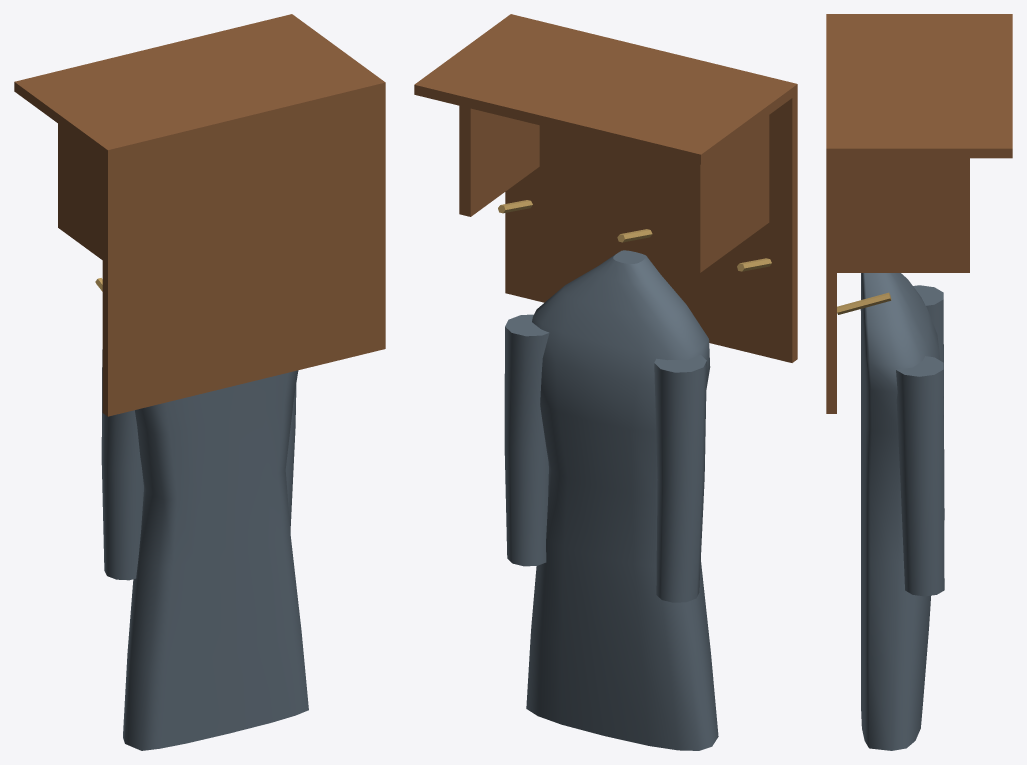
The model's file is parametric-wall-coat-rack-2nd-0600x0350x1900.glb.
3 renders of one model, left to right at view 1: azimuth 30°, elevation 25°; view 2: azimuth 150°, elevation 25°; view 3: azimuth 270°, elevation 25°, orthographic. The views are drawn at different scales.
Parts seen in each view (by area): view 1: backboard, coat:0, hat-shelf, coat-sleeve:0:-1, bracket:-1, coat-sleeve:0:1; view 2: coat:0, backboard, hat-shelf, coat-sleeve:0:-1, coat-sleeve:0:1, bracket:-1, bracket:1; view 3: hat-shelf, coat:0, bracket:1, coat-sleeve:0:1, backboard, coat-sleeve:0:-1, hook:2.
Part boxes in pixels (bbox=[...]): backboard: bbox=[102, 92, 385, 416]; coat:0: bbox=[123, 370, 308, 750]; hat-shelf: bbox=[14, 14, 385, 159]; coat-sleeve:0:-1: bbox=[101, 349, 143, 580]; bracket:-1: bbox=[58, 123, 102, 259]; coat-sleeve:0:1: bbox=[285, 385, 296, 531]; coat:0: bbox=[526, 250, 718, 750]; backboard: bbox=[505, 94, 797, 362]; hat-shelf: bbox=[414, 14, 797, 164]; coat-sleeve:0:-1: bbox=[654, 355, 706, 602]; coat-sleeve:0:1: bbox=[504, 314, 549, 566]; bracket:-1: bbox=[688, 115, 769, 272]; bracket:1: bbox=[459, 106, 539, 216]; hat-shelf: bbox=[826, 14, 1012, 158]; coat:0: bbox=[861, 273, 943, 750]; bracket:1: bbox=[837, 158, 969, 272]; coat-sleeve:0:1: bbox=[896, 356, 944, 596]; backboard: bbox=[826, 158, 836, 413]; coat-sleeve:0:-1: bbox=[913, 285, 944, 520]; hook:2: bbox=[837, 292, 891, 314].
Bounding box in the file's own units: 0.6 × 1.3 × 0.35.
